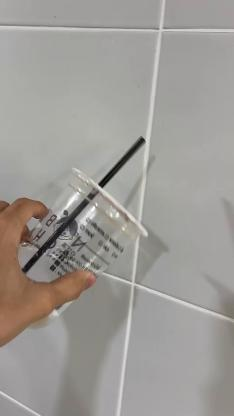Plastic Cup: (18, 166, 150, 326)
